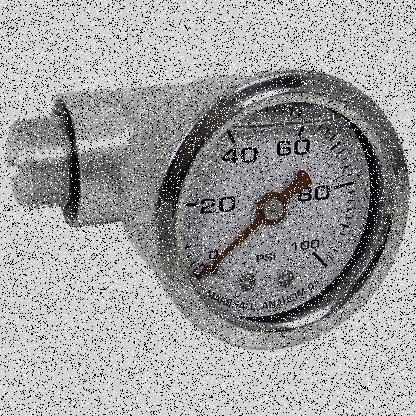needle: (196, 217, 263, 282)
